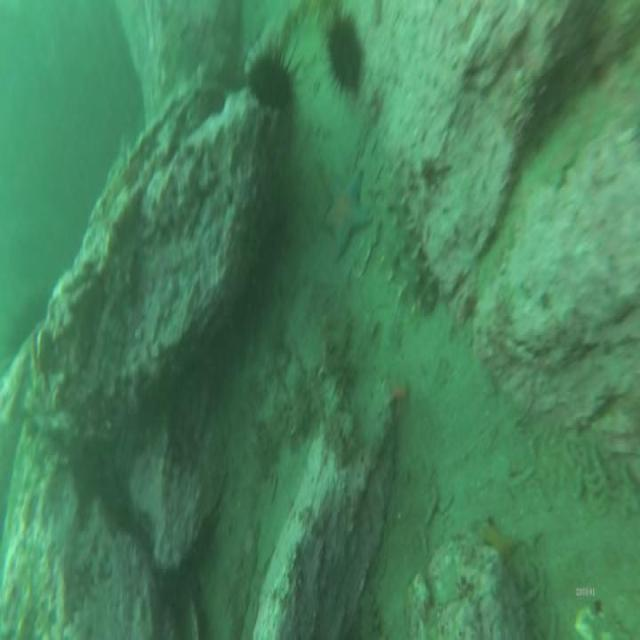echinus: (249, 55, 291, 111), (328, 23, 361, 88)
holothurian: (377, 168, 436, 312)
starfish: (324, 172, 369, 253)
